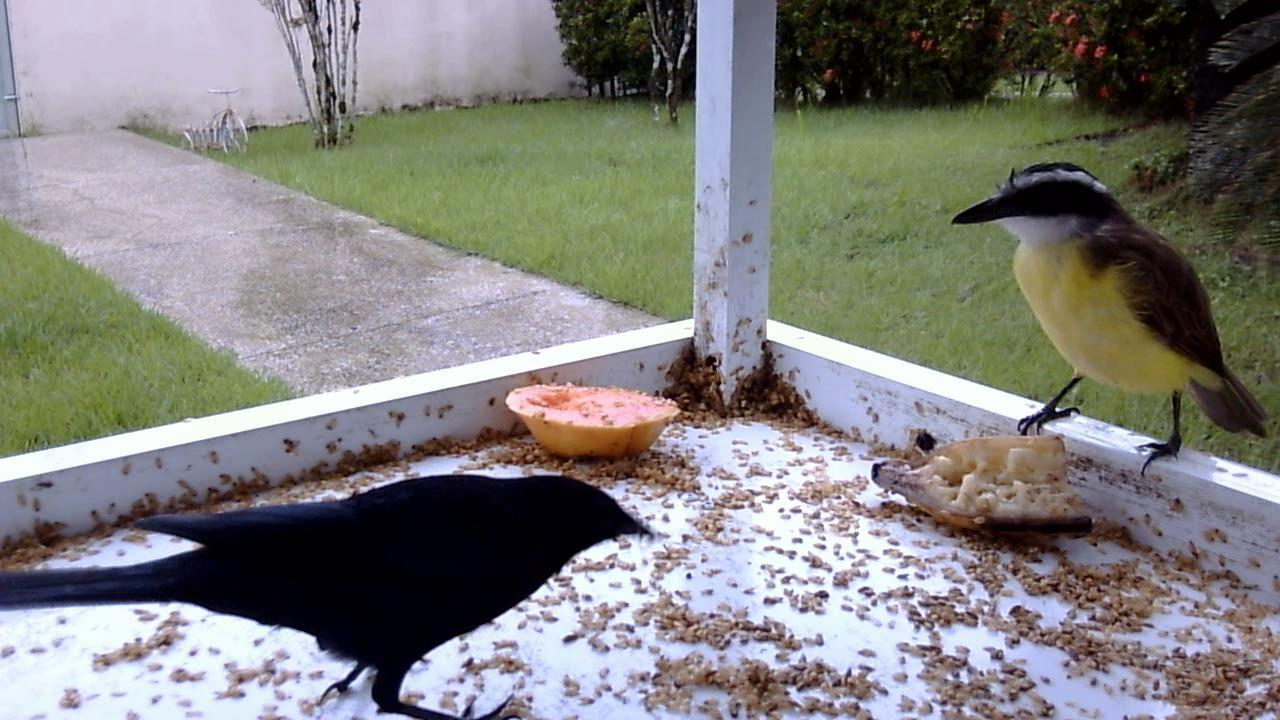bem_te_vi: (941, 151, 1273, 493)
chupim: (6, 452, 658, 720)
